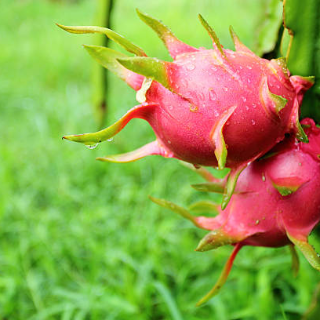thanh_long: (91, 17, 310, 173), (203, 123, 318, 263)
